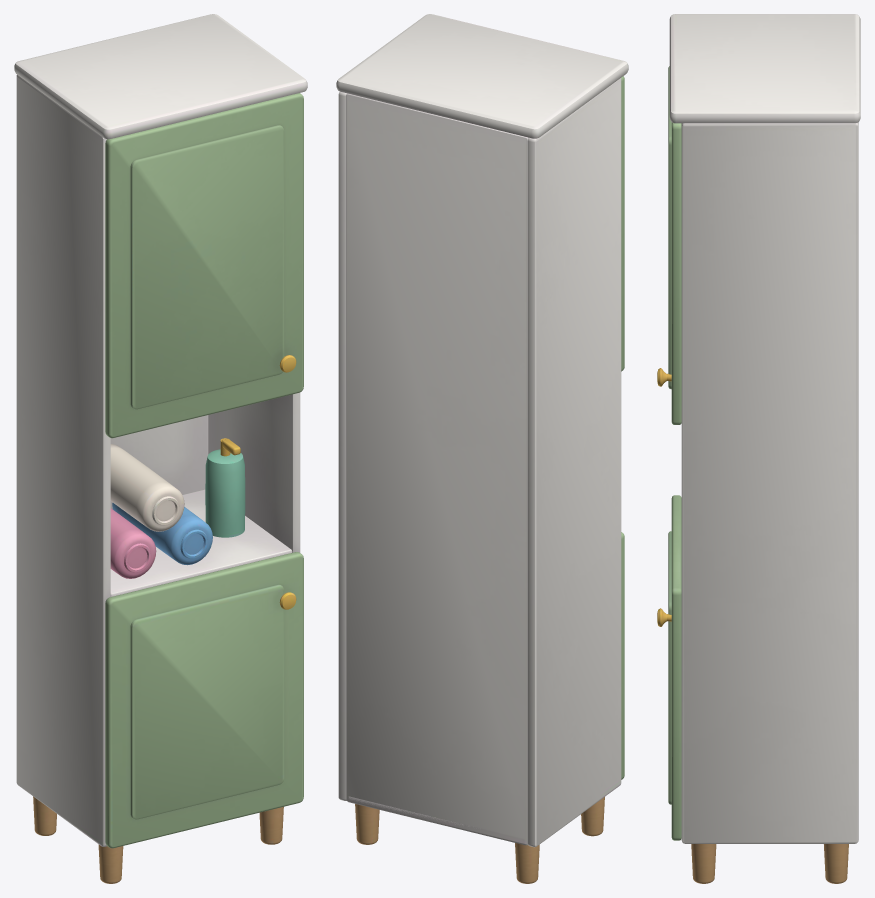
The model's file is bathroom-cabinet.glb.
3 renders of one model, left to right at view 1: azimuth 30°, elevation 25°; view 2: azimuth 150°, elevation 25°; view 3: azimuth 270°, elevation 25°, orthographic.
Parts seen in each view (by area): view 1: bathroom-cabinet_body, bathroom-cabinet_door; view 2: bathroom-cabinet_body, bathroom-cabinet_door; view 3: bathroom-cabinet_body, bathroom-cabinet_door.
Boxes of the visible parts, x1,y1,x2,y2 form: bathroom-cabinet_body: (14,14,307,883); bathroom-cabinet_door: (105,93,303,438); bathroom-cabinet_body: (336,14,628,883); bathroom-cabinet_door: (621,76,624,371); bathroom-cabinet_body: (657,14,860,883); bathroom-cabinet_door: (657,66,681,424).
Size of the model in its own units: 0.432 by 1.55 by 0.3683.
2 materials, 2 textured.
